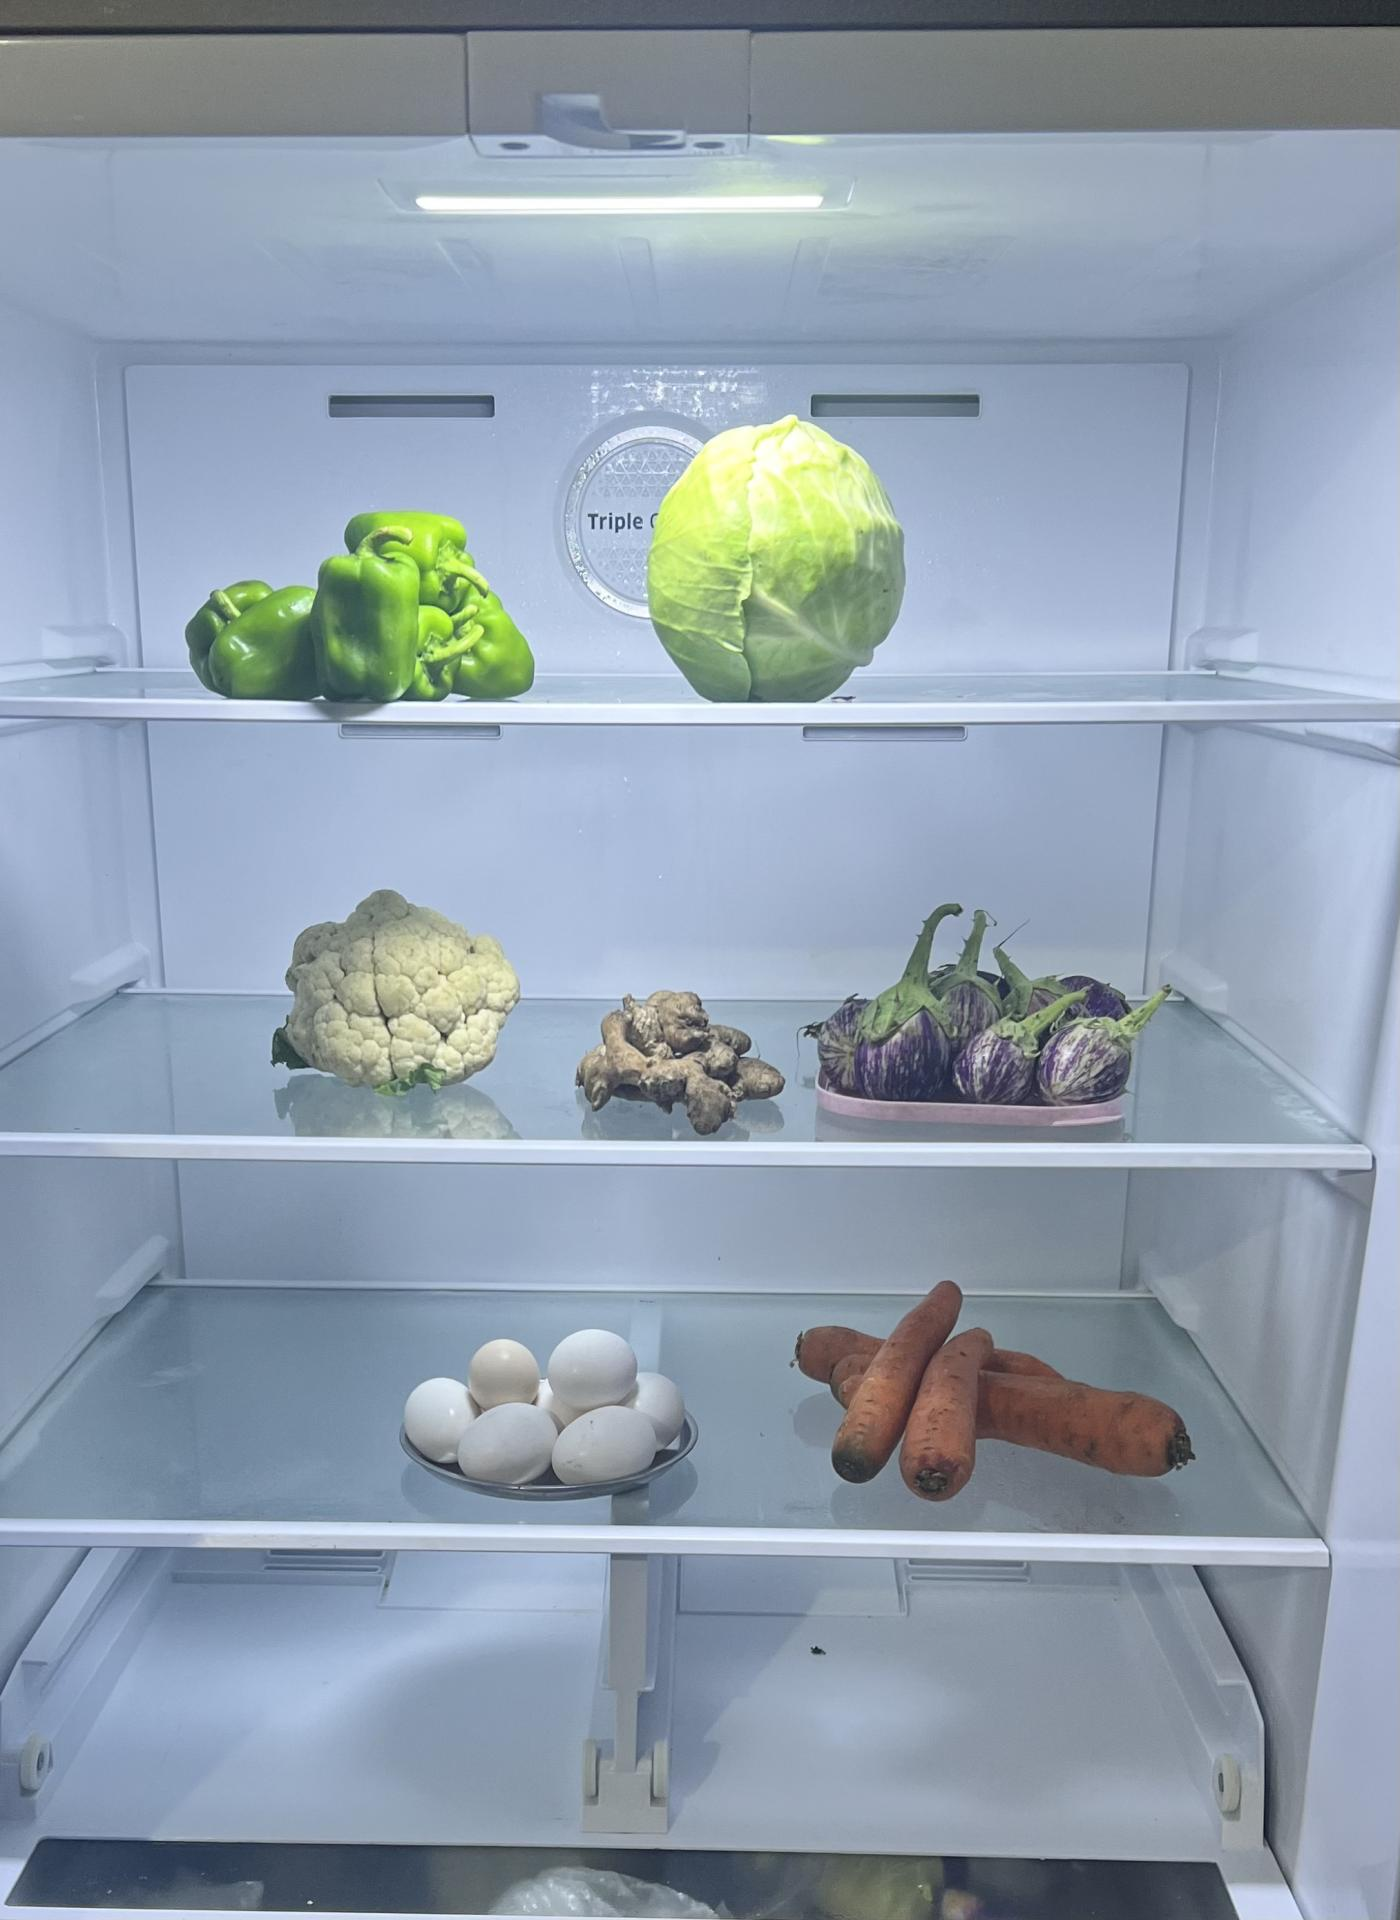brinjal: (816, 951, 1141, 1109)
cabbage: (647, 416, 908, 704)
capsicum: (179, 519, 531, 713)
carrots: (798, 1279, 1196, 1497)
cauliflower: (279, 894, 528, 1096)
egg: (386, 1325, 689, 1491)
ginger: (573, 987, 783, 1133)
